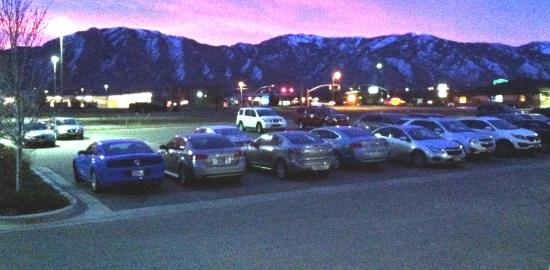car: (71, 139, 166, 193), (160, 131, 251, 186), (241, 133, 333, 180), (371, 121, 460, 169), (304, 123, 384, 170), (404, 116, 492, 158), (460, 114, 540, 155), (12, 115, 52, 148), (294, 106, 349, 128), (236, 106, 286, 130), (54, 114, 85, 144)
